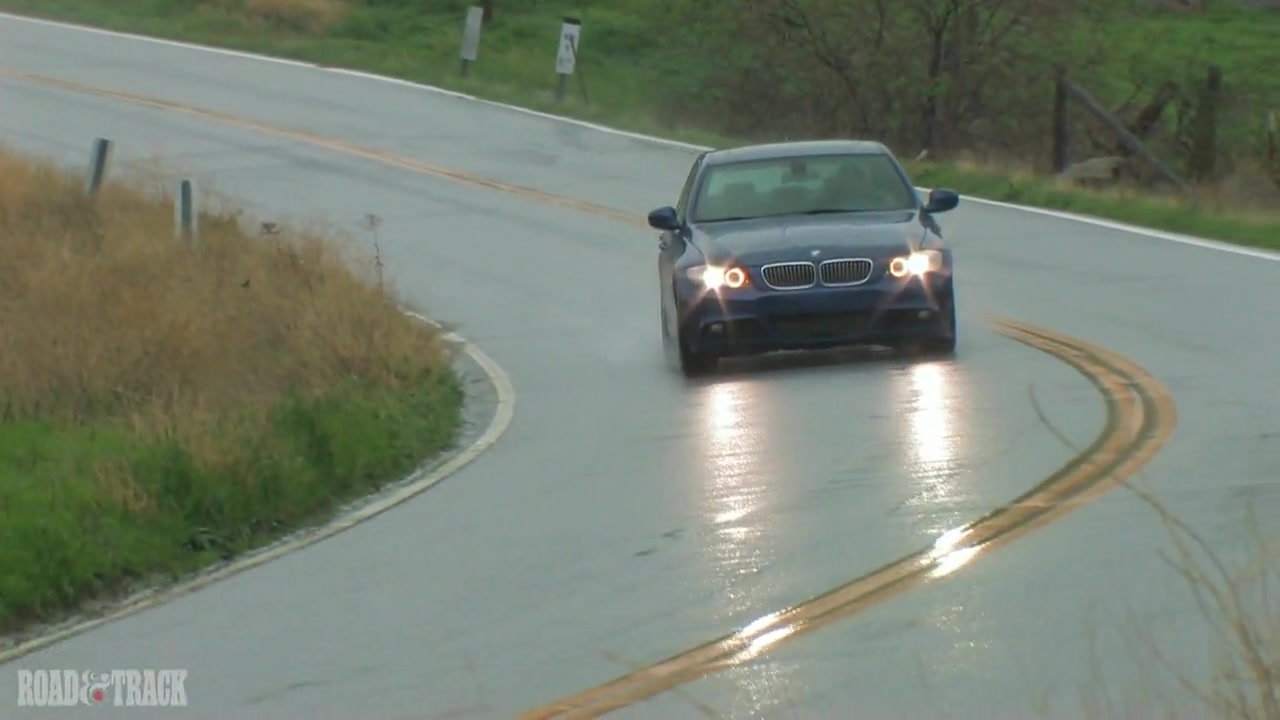car: (649, 135, 964, 377)
